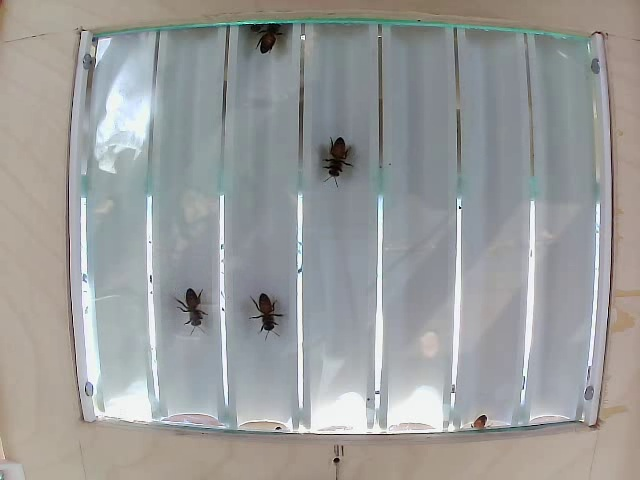bee: (249, 293, 287, 338), (173, 287, 210, 333), (319, 134, 353, 184), (252, 21, 289, 64)
